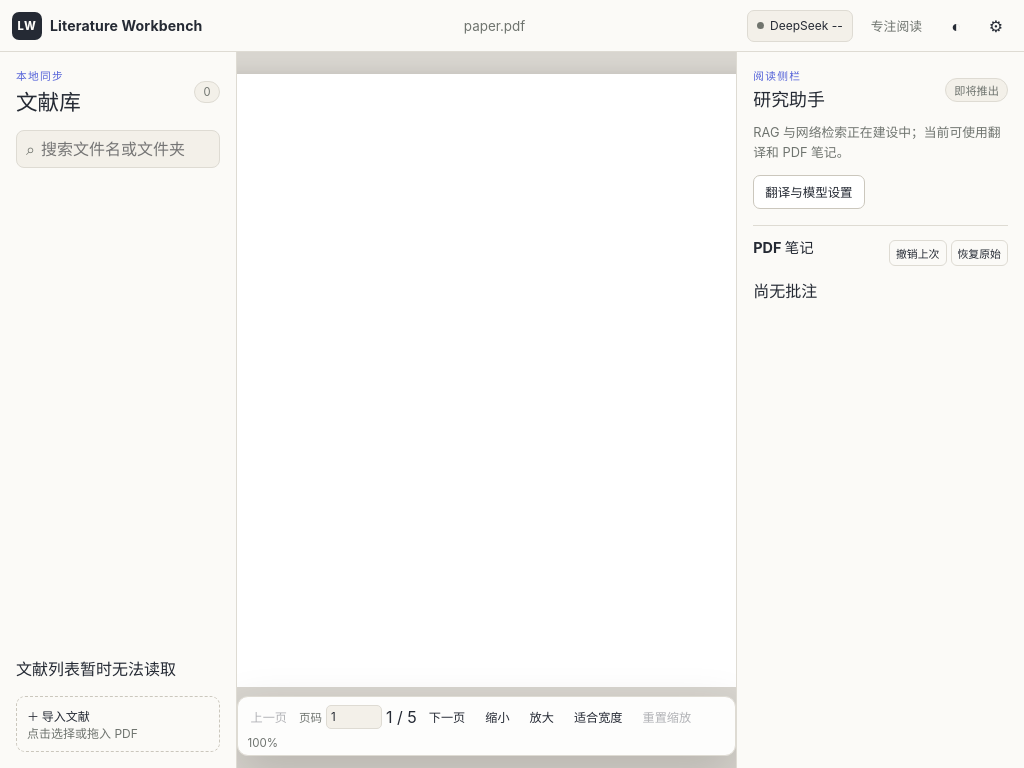
Test: PdfReader › supports typed physical page navigation and the complete v0.1 toolbar
This screenshot has width=1024, height=768.
Replace the text in the number field named "PDF 页码" with "5": (354, 717) [326,705,382,729]
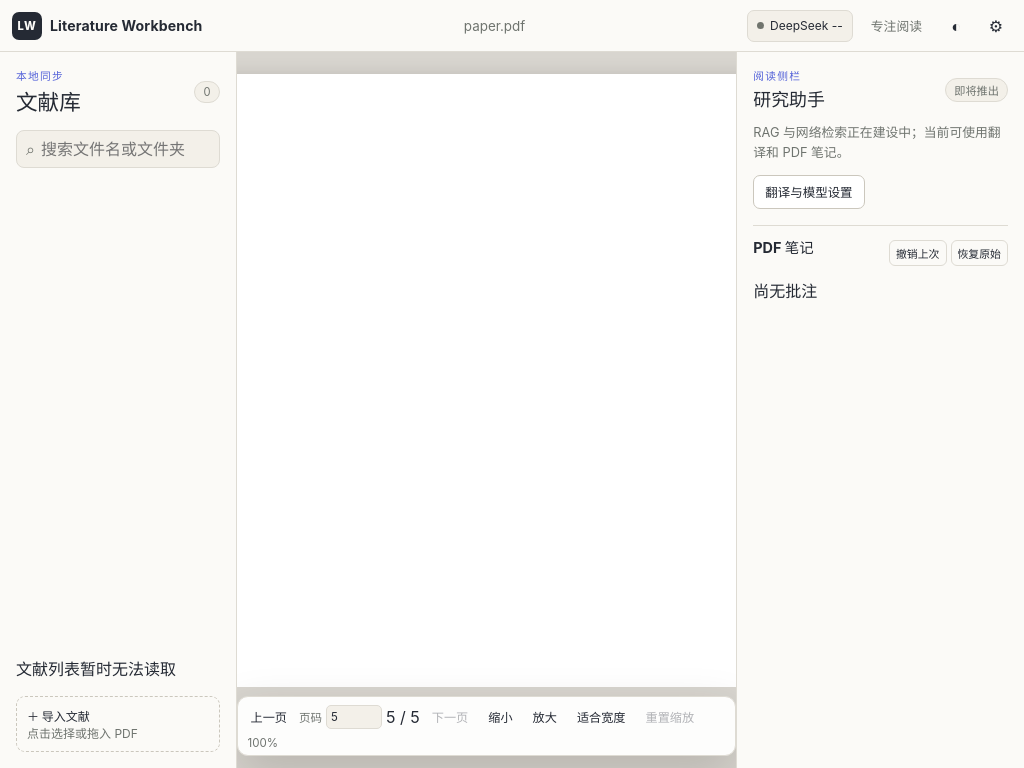
Result: the text "5 / 5" is shown at [386,707,420,727]
Result: the button "上一页" is enabled at [242,702,295,732]
Result: the button "下一页" is disabled at [424,702,476,732]
Click the button "放大": click(545, 717) [525,702,565,732]
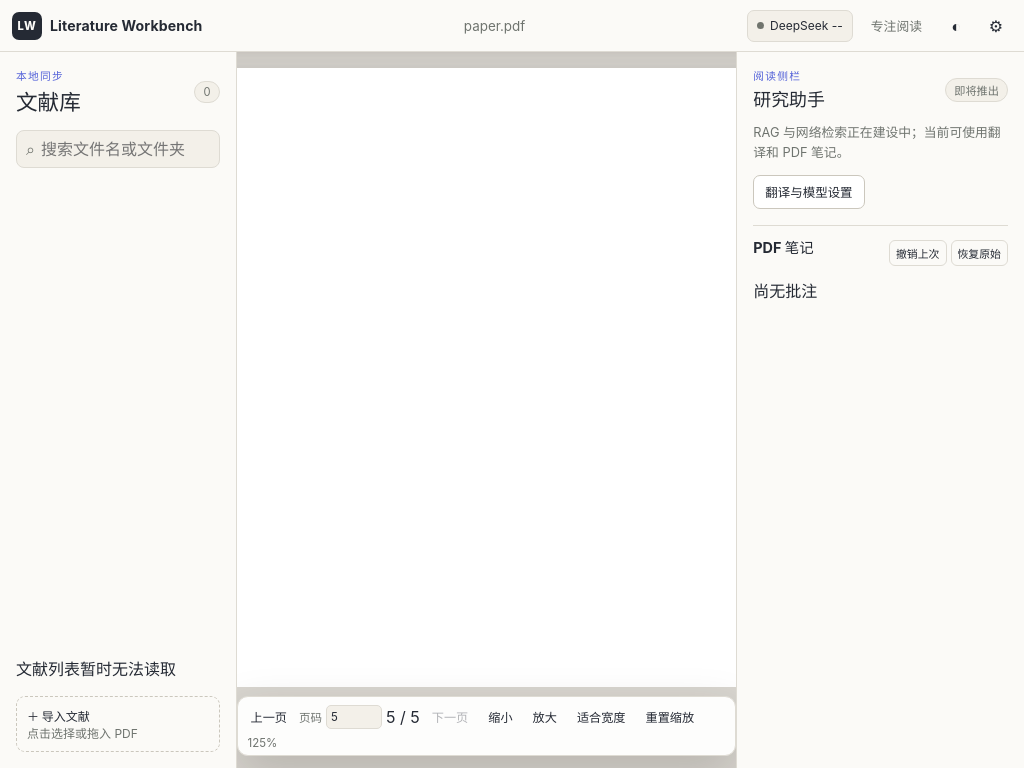
Result: the button "重置缩放" is enabled at [638,702,702,732]
